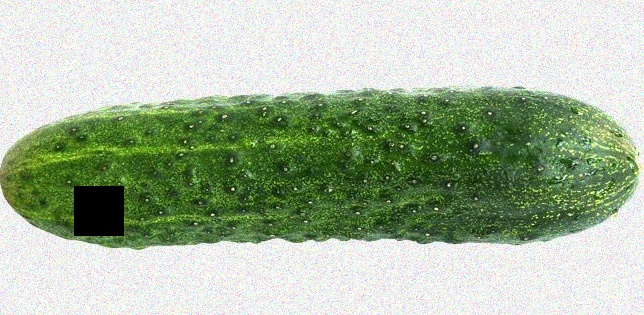cucumber: (1, 84, 641, 247)
